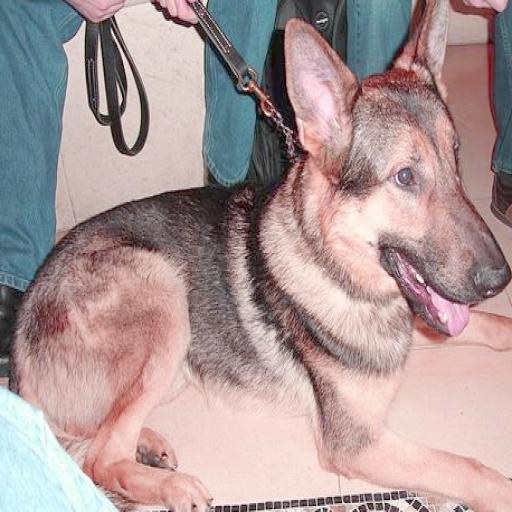dog_face: (297, 10, 494, 324)
